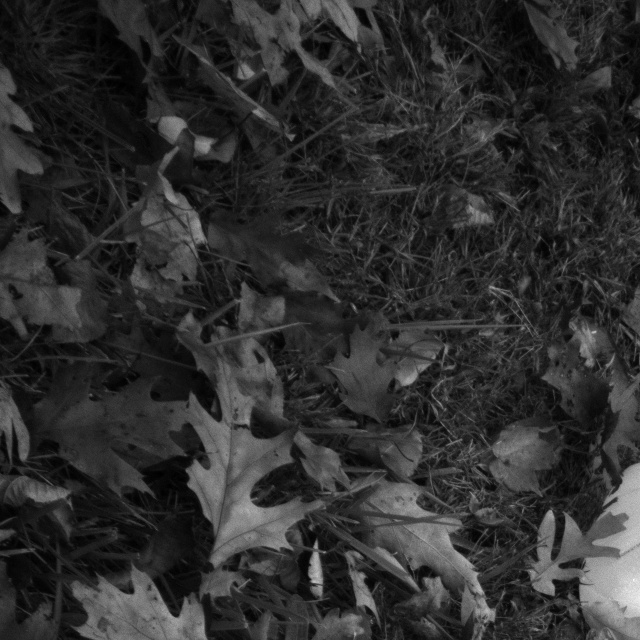can: (577, 422, 640, 640)
